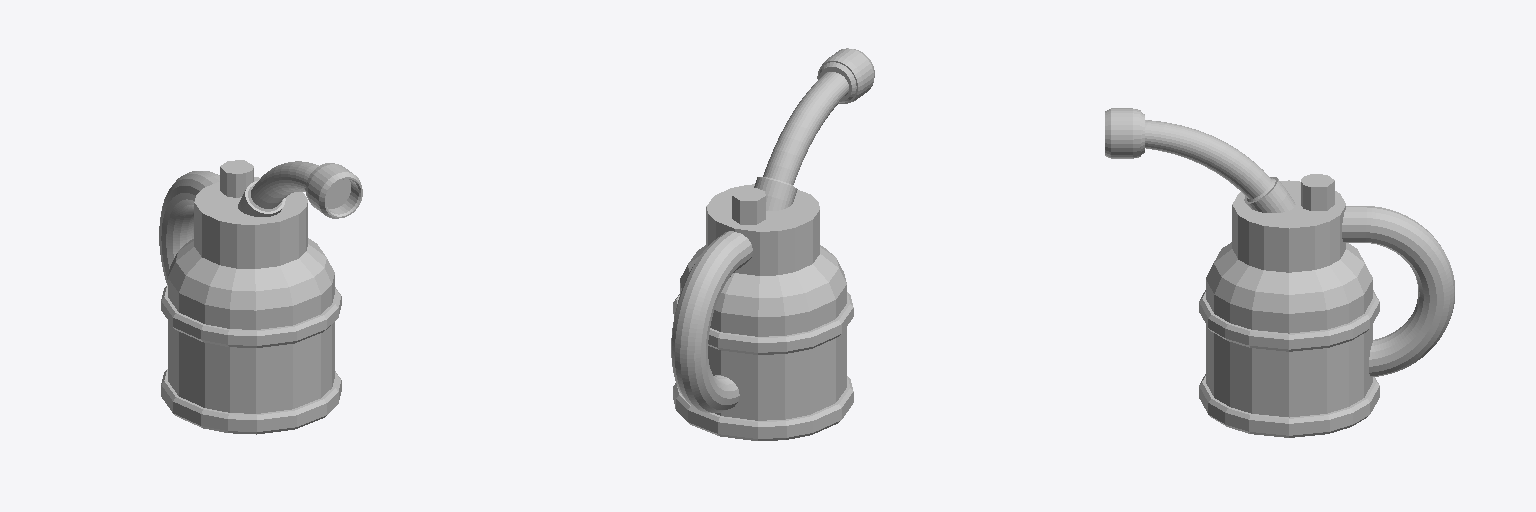
Rendered from Oil can.OBJ.
3 views of the same model, side by side, from view 1: azimuth 30°, elevation 25°; view 2: azimuth 150°, elevation 25°; view 3: azimuth 270°, elevation 25° (orthographic).
Parts seen in each view (by area): view 1: Group15630, Group15645, Group15660, Group15675; view 2: Group15630, Group15645, Group15660, Group15675; view 3: Group15630, Group15645, Group15660, Group15675.
Boxes of the visible parts, box(x1,y1,x2,y2) form: Group15630: box(161, 160, 341, 434); Group15645: box(159, 171, 219, 284); Group15660: box(238, 161, 318, 216); Group15675: box(305, 163, 362, 218); Group15630: box(673, 184, 853, 440); Group15645: box(671, 231, 752, 412); Group15660: box(754, 72, 848, 210); Group15675: box(817, 48, 874, 103); Group15630: box(1199, 174, 1379, 437); Group15645: box(1342, 206, 1454, 377); Group15660: box(1145, 120, 1295, 212); Group15675: box(1105, 108, 1144, 158).
Bounding box in the file's own units: 28.99 × 51.33 × 56.21.